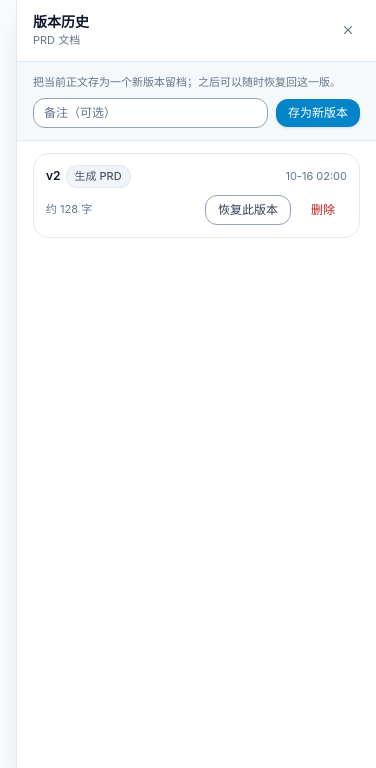
VersionDrawer 的两个动作 › 恢复与删除的确认互斥：开了一个，另一个自动收掉
Click the button "删除": click(323, 210) [299,196,347,224]
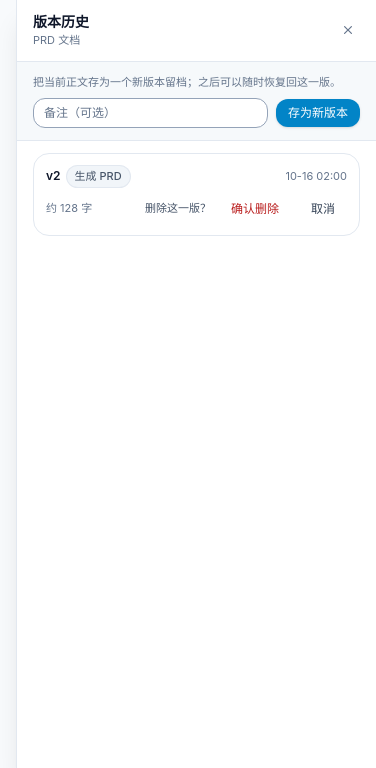
Expected: the text "删除这一版？" is shown, [145,200,211,217]
Click the button "取消": click(323, 208) [299,194,347,222]
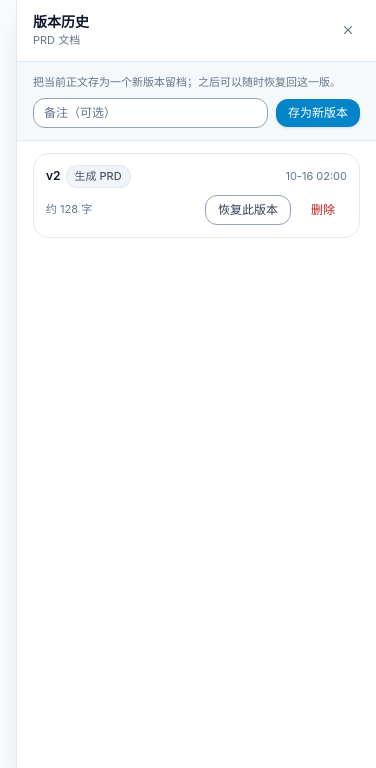
Click the button "恢复此版本": click(248, 210) [205,194,291,224]
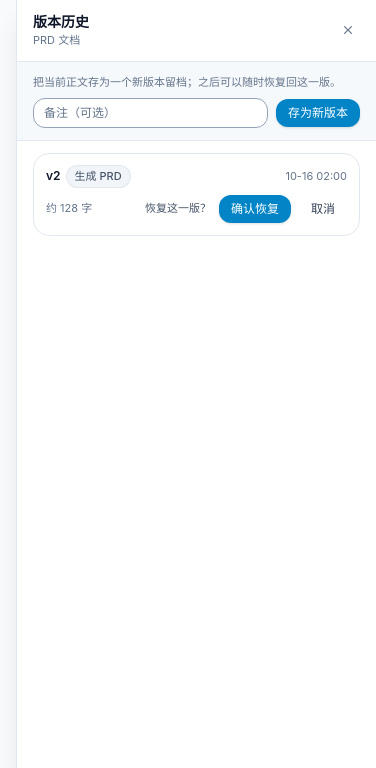
Expected: the text "删除这一版？" is not shown
Expected: the text "恢复这一版？" is shown, [145,200,211,217]
